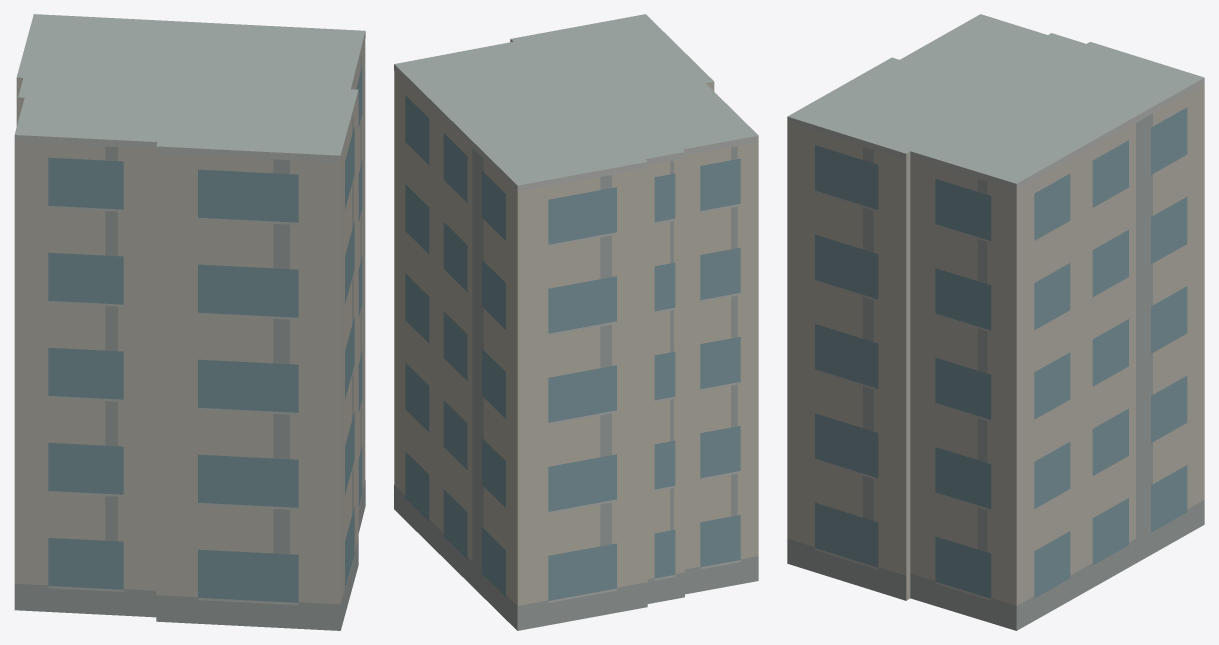
File: survey-upis-33029949.glb
The picture shows the model from 3 angles, left to right: view 1: azimuth 30°, elevation 25°; view 2: azimuth 150°, elevation 25°; view 3: azimuth 270°, elevation 25°; orthographic projection. The views are drawn at different scales.
Visible parts, largest first — view 1: survey-upis-33029949.tmp; view 2: survey-upis-33029949.tmp; view 3: survey-upis-33029949.tmp.
Part boxes in pixels (<box>): survey-upis-33029949.tmp: <box>14,14,365,630</box>; survey-upis-33029949.tmp: <box>394,14,758,630</box>; survey-upis-33029949.tmp: <box>787,14,1204,630</box>.
Size of the model in its own units: 13.29 by 16.3 by 13.8.
